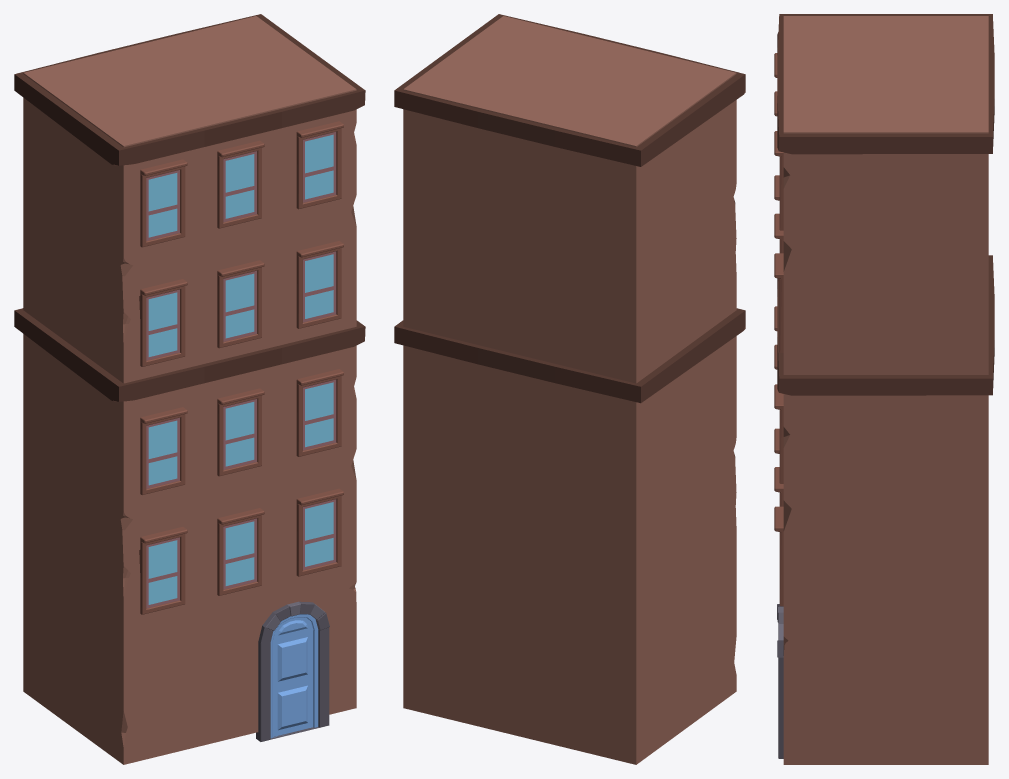
File: House 2.fbx
3 views of the same model, side by side, from view 1: azimuth 30°, elevation 25°; view 2: azimuth 150°, elevation 25°; view 3: azimuth 270°, elevation 25° (orthographic). The views are drawn at different scales.
Parts seen in each view (by area): view 1: House 2; view 2: House 2; view 3: House 2.
Part boxes in pixels (left/top/right/bottom): House 2: left=14, top=14, right=365, bottom=764; House 2: left=394, top=14, right=745, bottom=764; House 2: left=774, top=14, right=994, bottom=764.
Size of the model in its own units: 591 by 1403 by 437.
